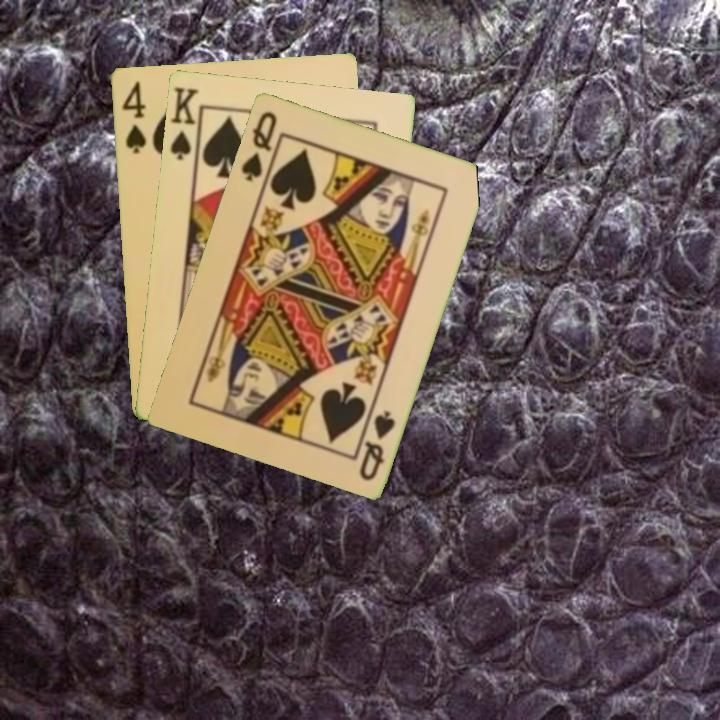4s: (117, 76, 149, 156)
Ks: (166, 83, 204, 166)
Qs: (237, 107, 280, 184), (355, 407, 398, 483)
